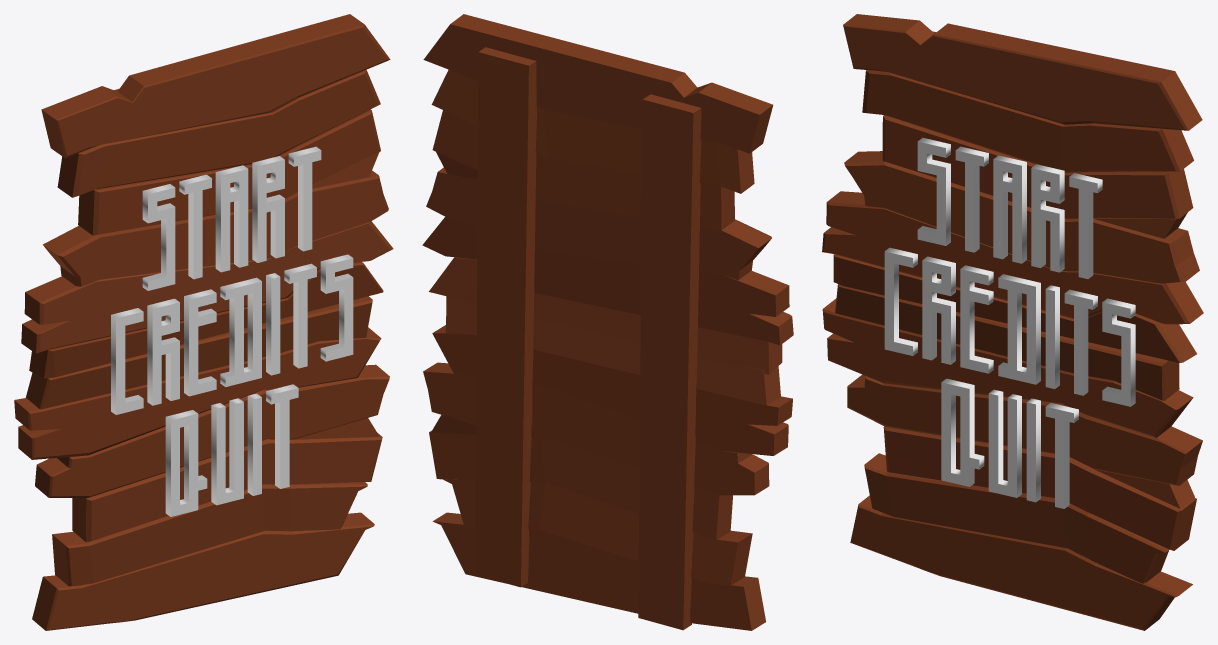
File: Menu_V01.fbx
The picture shows the model from 3 angles, left to right: view 1: azimuth 30°, elevation 25°; view 2: azimuth 150°, elevation 25°; view 3: azimuth 330°, elevation 25°; orthographic projection. The views are drawn at different scales.
Parts seen in each view (by area): view 1: Menu_Sign, Text_Credits, Text_Start, Text_Quit; view 2: Menu_Sign; view 3: Menu_Sign, Text_Credits, Text_Start, Text_Quit.
Part boxes in pixels (left/top/right/bottom): Menu_Sign: left=14, top=14, right=393, bottom=630; Text_Credits: left=111, top=254, right=353, bottom=414; Text_Start: left=142, top=146, right=321, bottom=290; Text_Quit: left=165, top=384, right=298, bottom=516; Menu_Sign: left=422, top=14, right=793, bottom=630; Menu_Sign: left=822, top=14, right=1203, bottom=630; Text_Credits: left=884, top=247, right=1135, bottom=406; Text_Start: left=917, top=137, right=1102, bottom=278; Text_Quit: left=941, top=378, right=1078, bottom=508.
Bounding box in the file's own units: 225 × 325 × 41.17.
